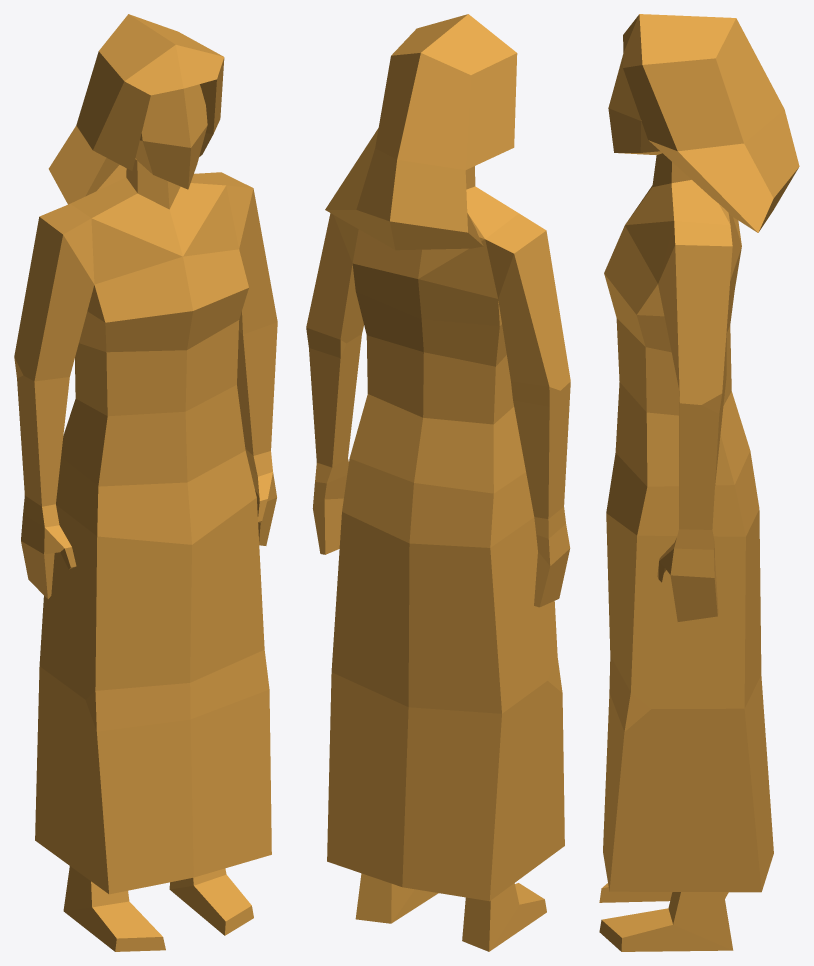
File: woman-egypt-worker.fbx
The picture shows the model from 3 angles, left to right: view 1: azimuth 30°, elevation 25°; view 2: azimuth 150°, elevation 25°; view 3: azimuth 270°, elevation 25°; orthographic projection. The views are drawn at different scales.
Parts seen in each view (by area): view 1: woman-egypt-worker; view 2: woman-egypt-worker; view 3: woman-egypt-worker.
Boxes of the visible parts, <box> form: woman-egypt-worker: <box>14,14,277,951</box>; woman-egypt-worker: <box>306,14,570,951</box>; woman-egypt-worker: <box>599,14,799,951</box>.
Bounding box in the file's own units: 0.5287 × 1.83 × 0.3674.
